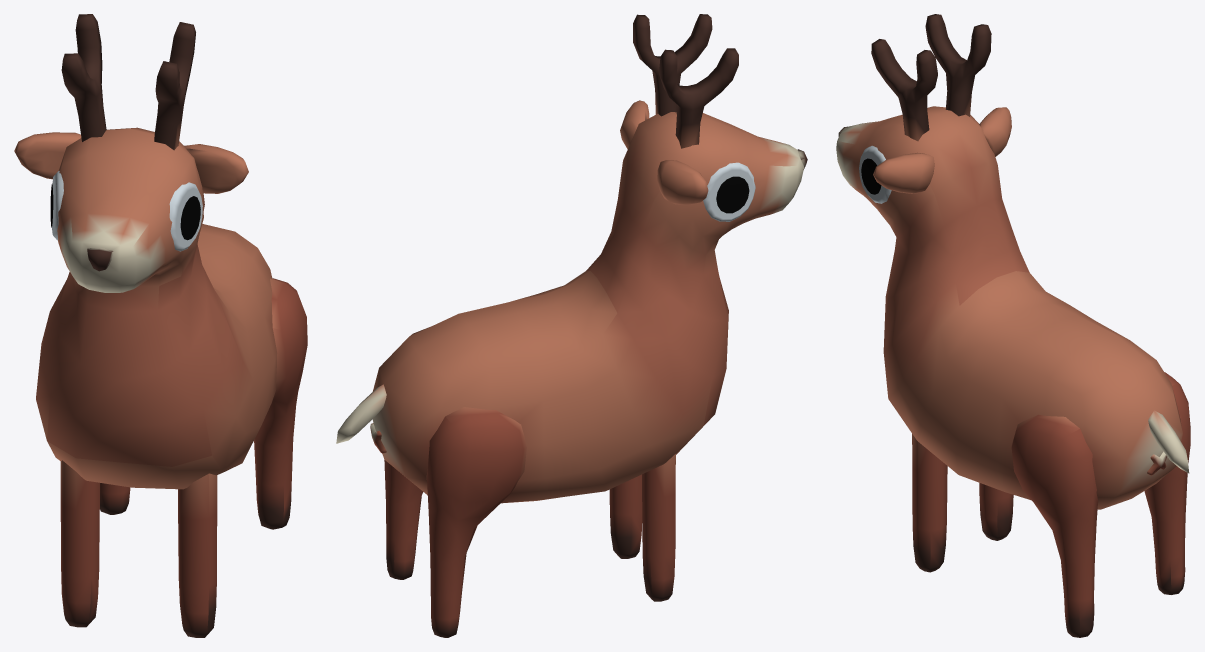
File: Reindeer.glb
3 renders of one model, left to right at view 1: azimuth 30°, elevation 25°; view 2: azimuth 150°, elevation 25°; view 3: azimuth 270°, elevation 25°, orthographic. The views are drawn at different scales.
Visible parts, largest first — view 1: 139; view 2: 139; view 3: 139.
Part boxes in pixels (x1,y1,x2,y2): 139: (14, 14, 307, 637); 139: (336, 14, 807, 637); 139: (836, 14, 1190, 637).
Size of the model in its own units: 0.7468 by 1.26 by 0.7877.
